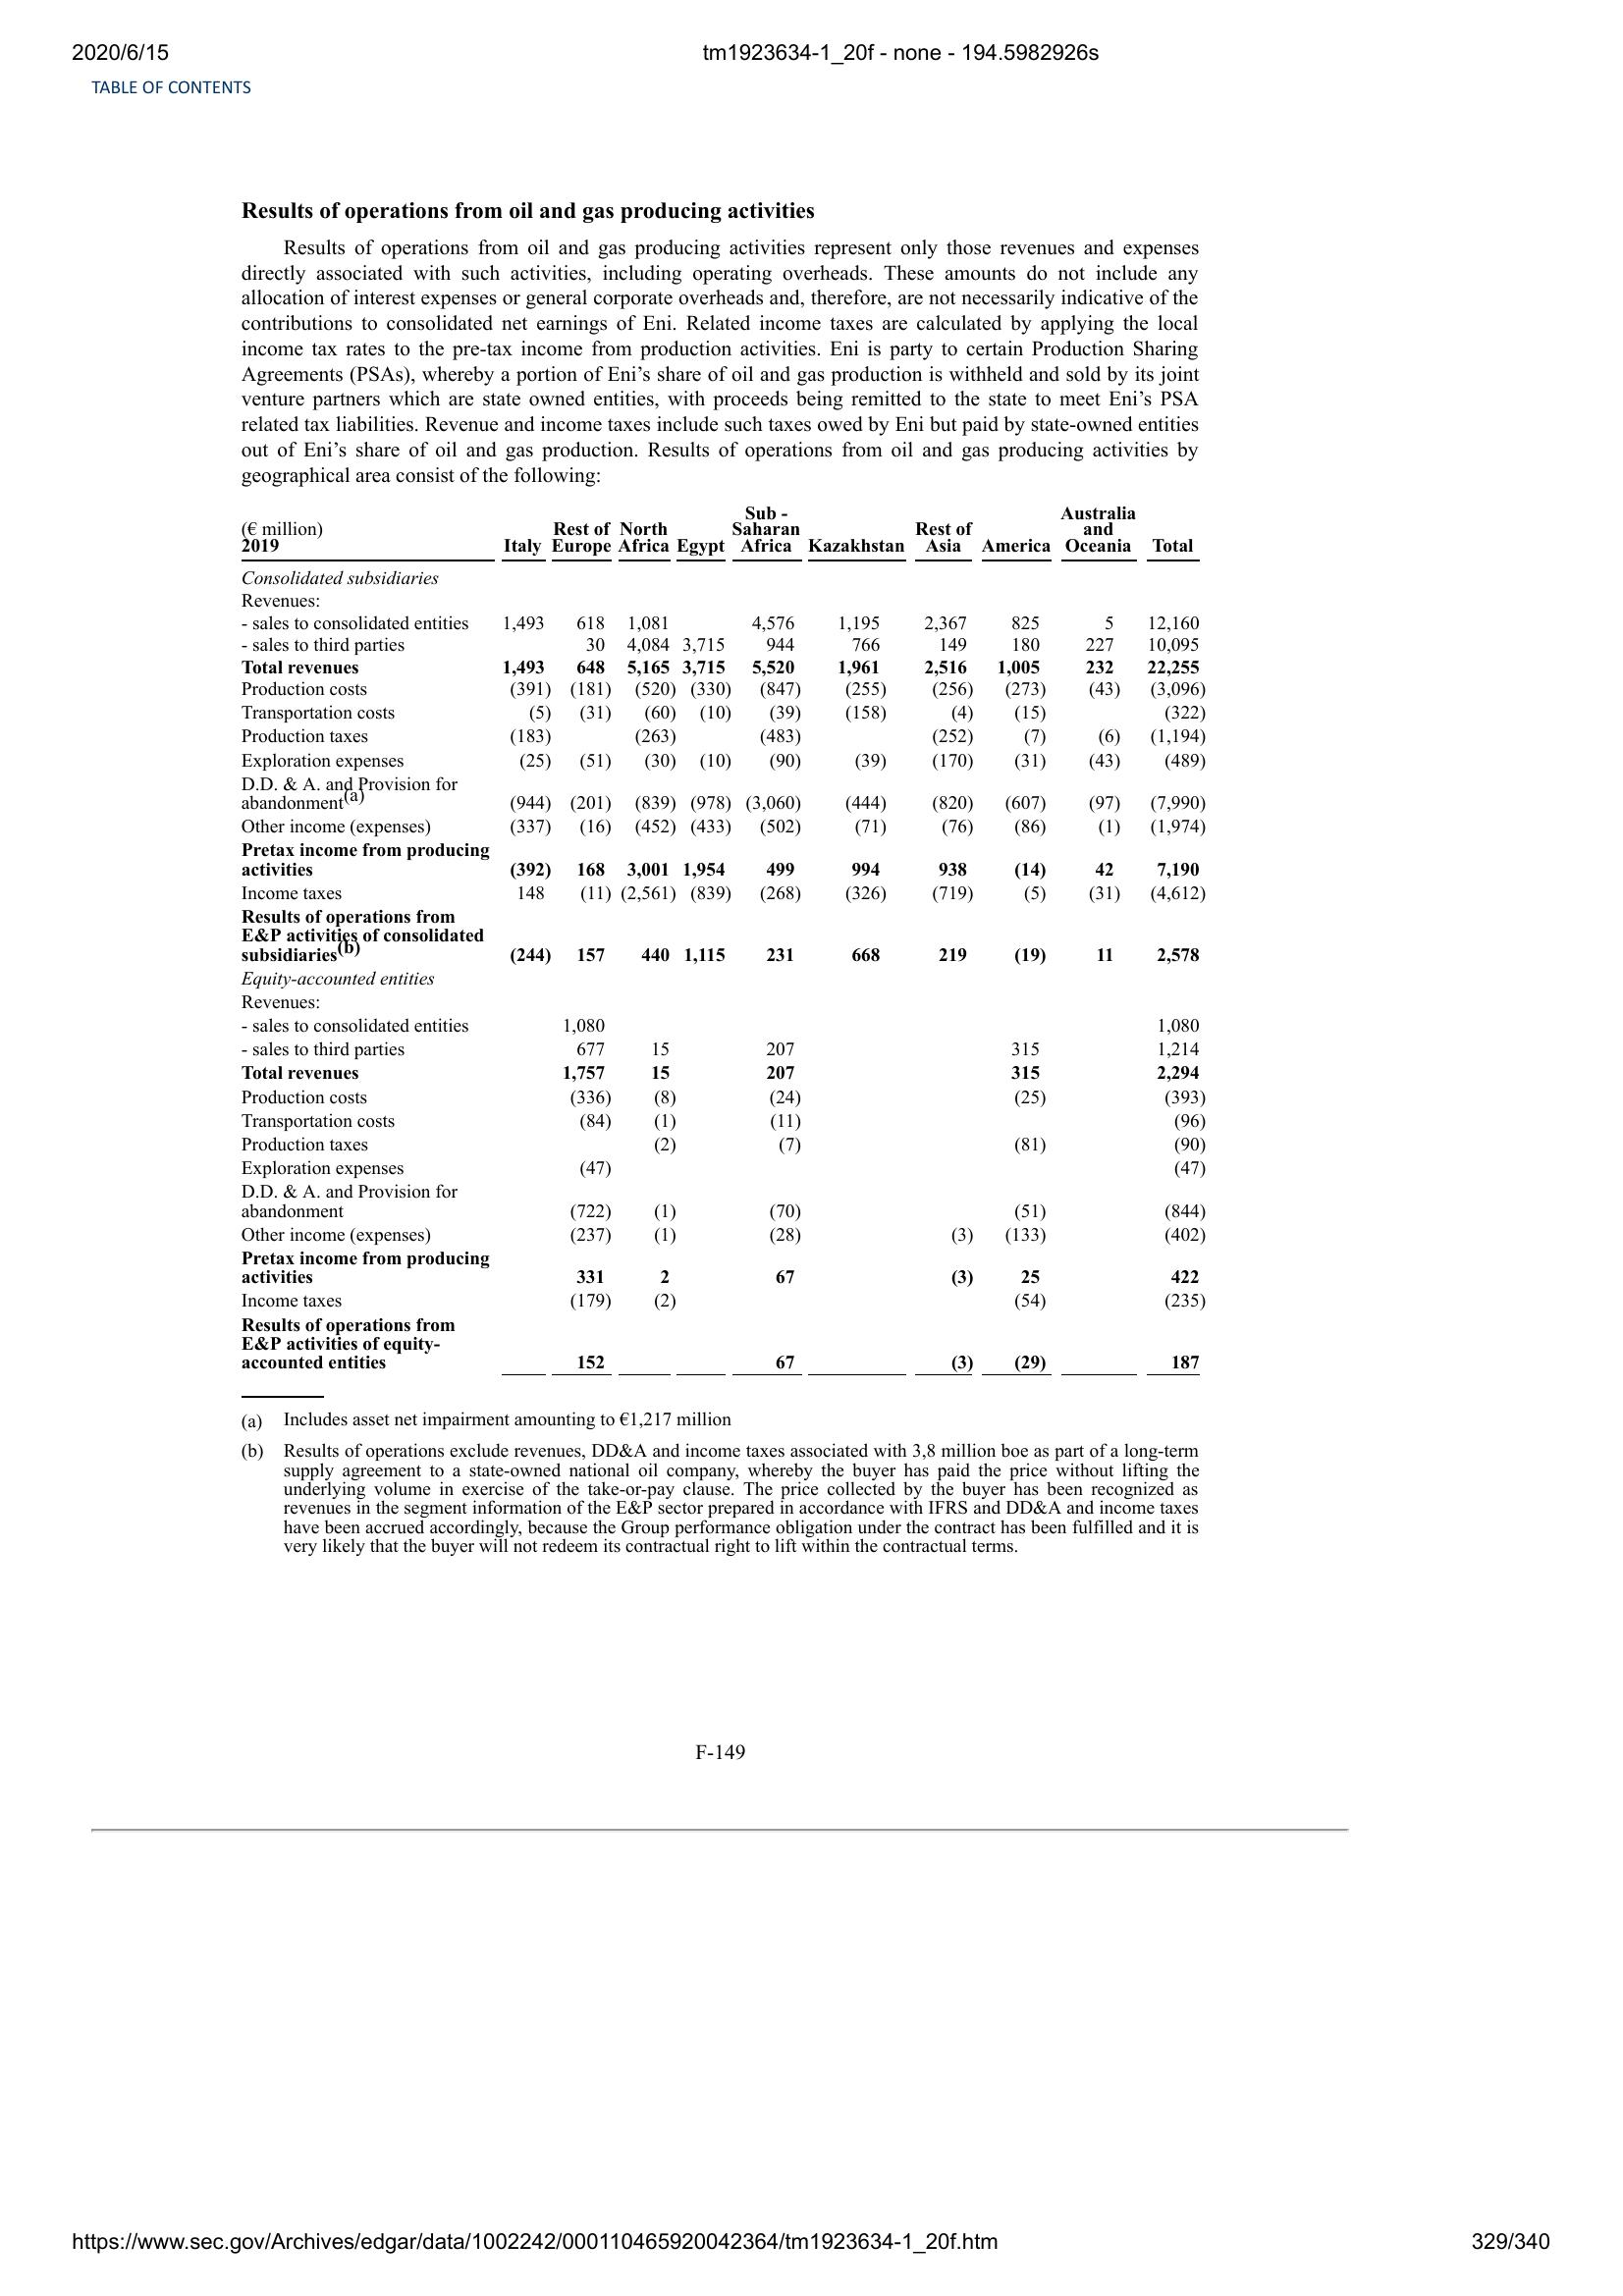table: (235, 502, 1214, 1381)
